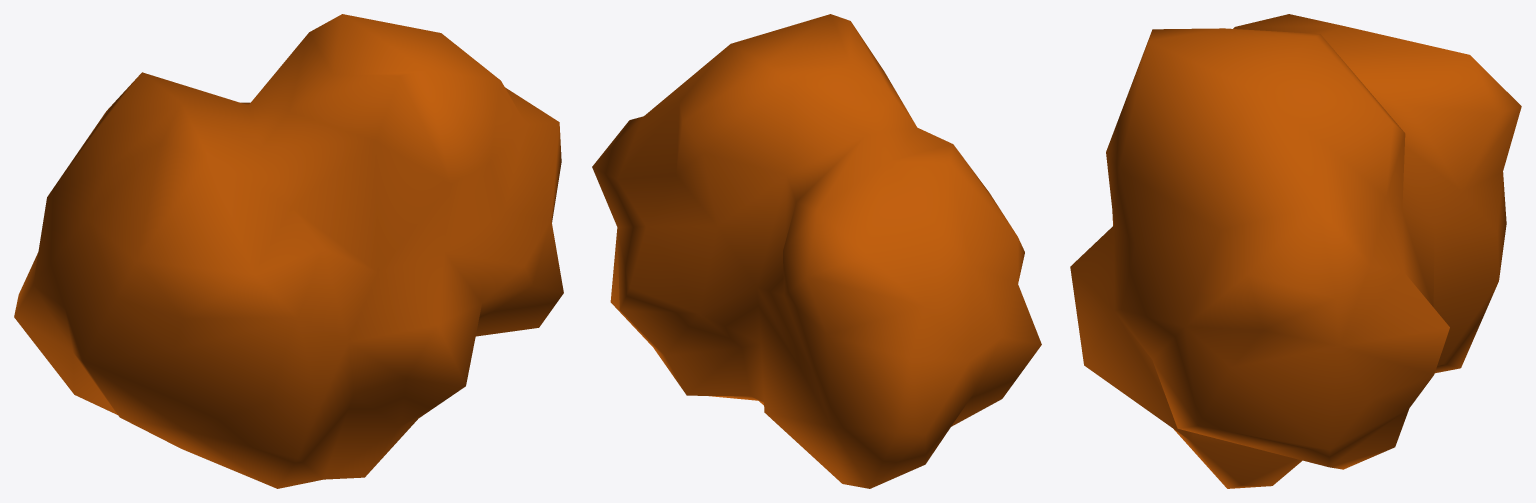
Rendered from Mgenitalium_potd_1pot_0_1_0.dae.
The picture shows the model from 3 angles, left to right: view 1: azimuth 30°, elevation 25°; view 2: azimuth 150°, elevation 25°; view 3: azimuth 270°, elevation 25°; orthographic projection. The views are drawn at different scales.
Parts seen in each view (by area): view 1: CoarseMS_1pot; view 2: CoarseMS_1pot; view 3: CoarseMS_1pot.
Boxes of the visible parts, x1,y1,x2,y2 form: CoarseMS_1pot: (14,14,563,488); CoarseMS_1pot: (592,14,1041,488); CoarseMS_1pot: (1070,14,1521,488).
Size of the model in its own units: 63.24 by 54.16 by 48.01.
